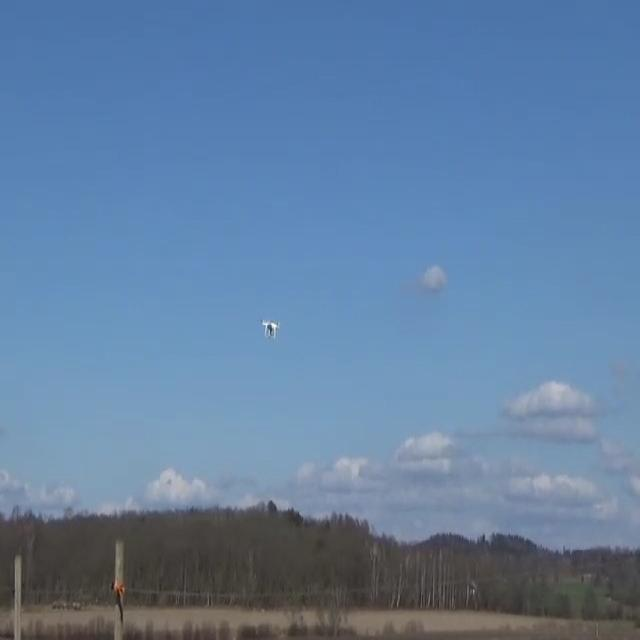drone: (260, 318, 280, 338)
